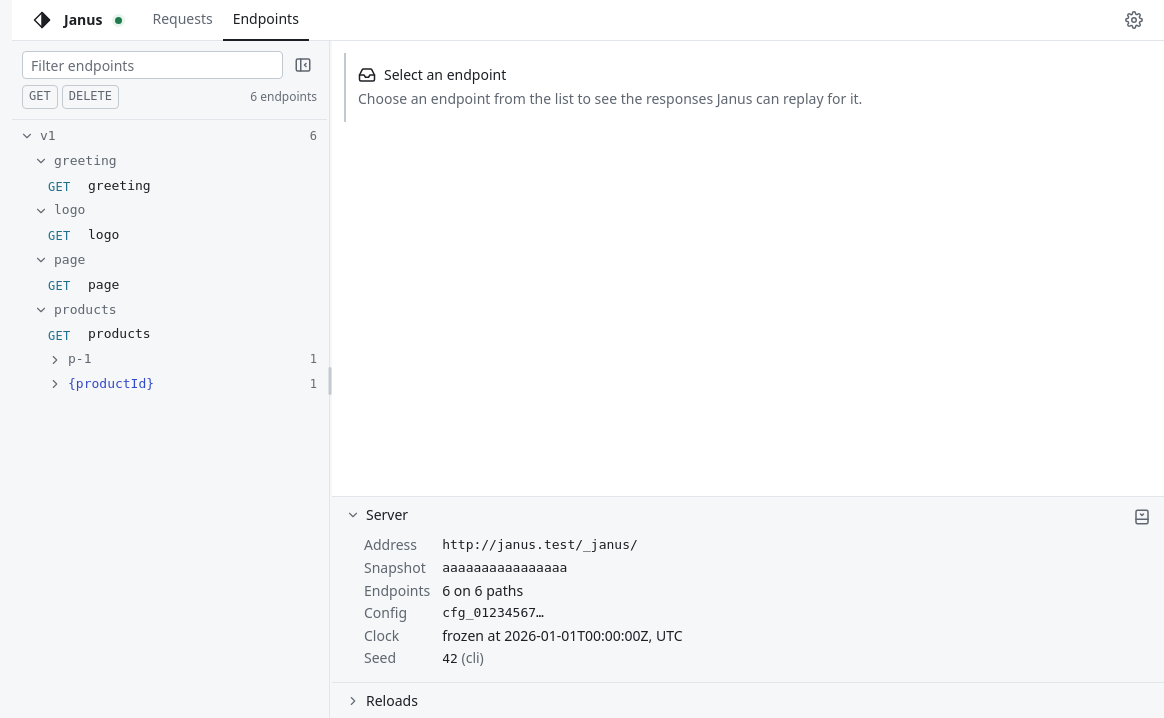
Test: fixture variations in the UI › tolerates an older server that reports none of the new fields
Click the button with aria-label "/v1/products/{productId}, path parameter productId" at (111, 383), box [12,372,327,397]
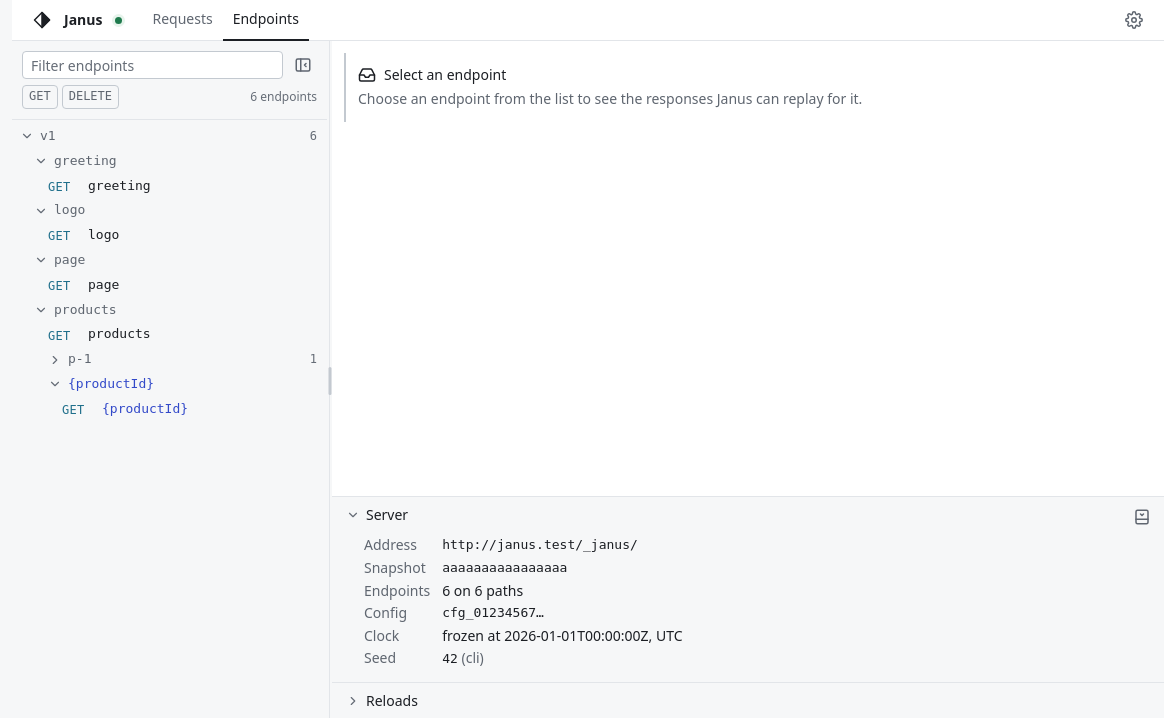
Click the link with aria-label "GET /v1/greeting, scenario default" at (99, 186), box [48,178,151,194]
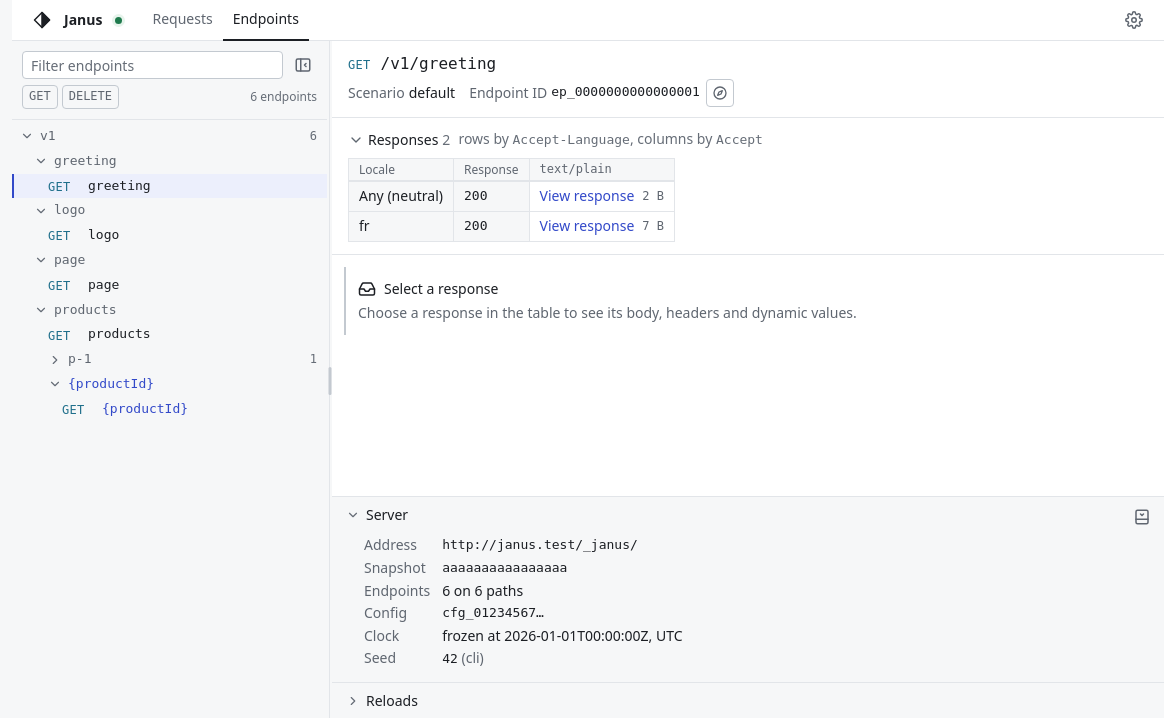
Now the rows read "LocaleResponsetext/plain", "Any (neutral)200View response 2 B", "fr200View response 7 B", in this order, box [348,158,674,181]; [348,182,674,212]; [348,212,674,241]
Click the link with aria-label "View response 200 (fr)" at (602, 226), box [530,212,674,240]
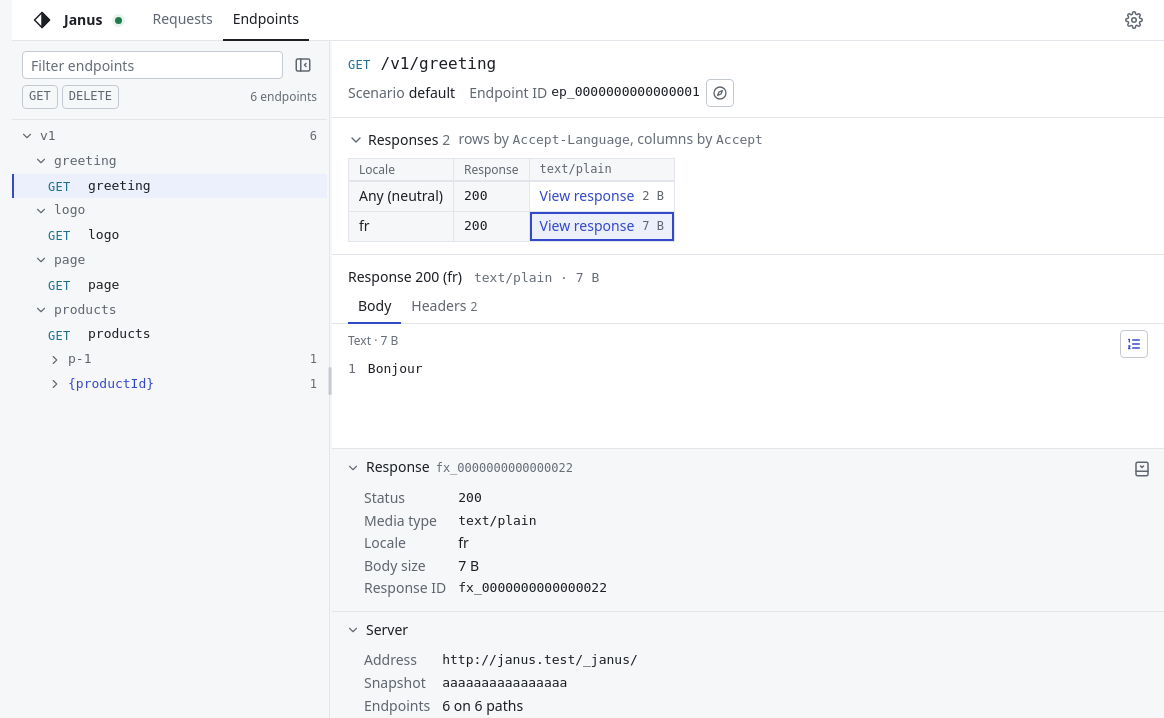
Now the heading "Response 200 (fr)" is shown, box [348,267,462,287]
